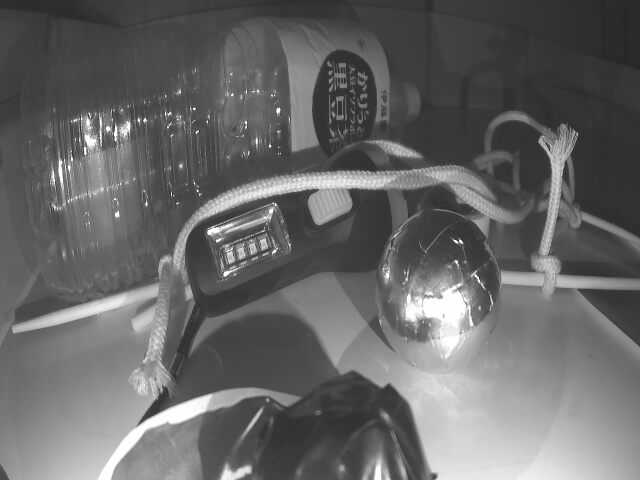Dead: (265, 367, 430, 480)
Live: (377, 212, 505, 373)
Point: (531, 76, 640, 139)
